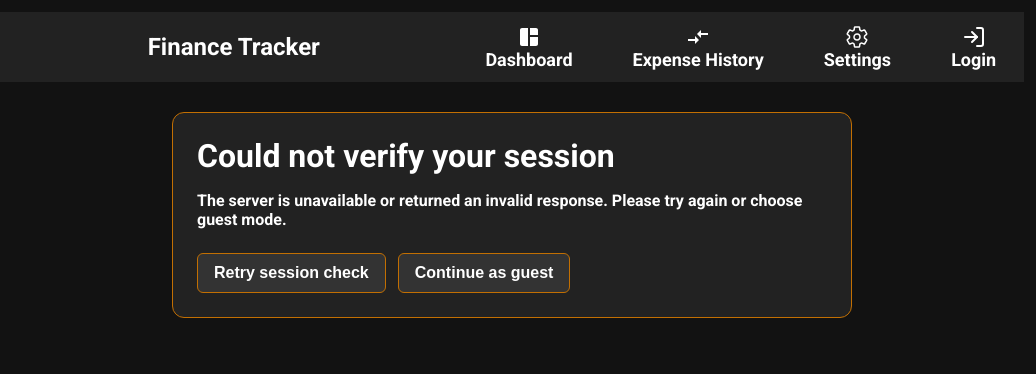
Test case: a failed session check can be retried
Expected: the heading "Could not verify your session" is shown, [197,137,615,175]
Click the button "Retry session check".
click(291, 273)  # box [197,253,386,293]
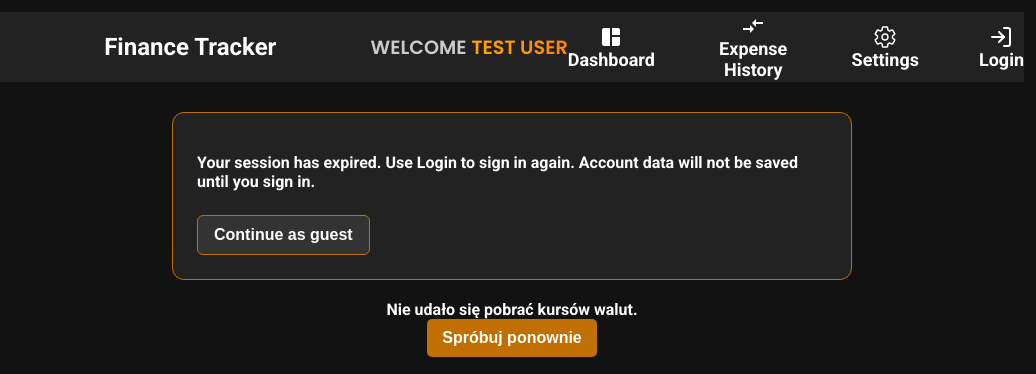
Result: the text "Test User" is shown at [472,32,568,62]
